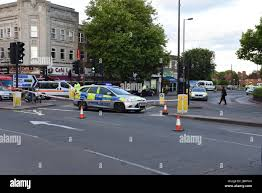car: (75, 84, 146, 110), (190, 86, 209, 102), (1, 85, 15, 101), (246, 86, 257, 96)
cone: (174, 113, 183, 131), (78, 105, 85, 120), (161, 103, 168, 115)
